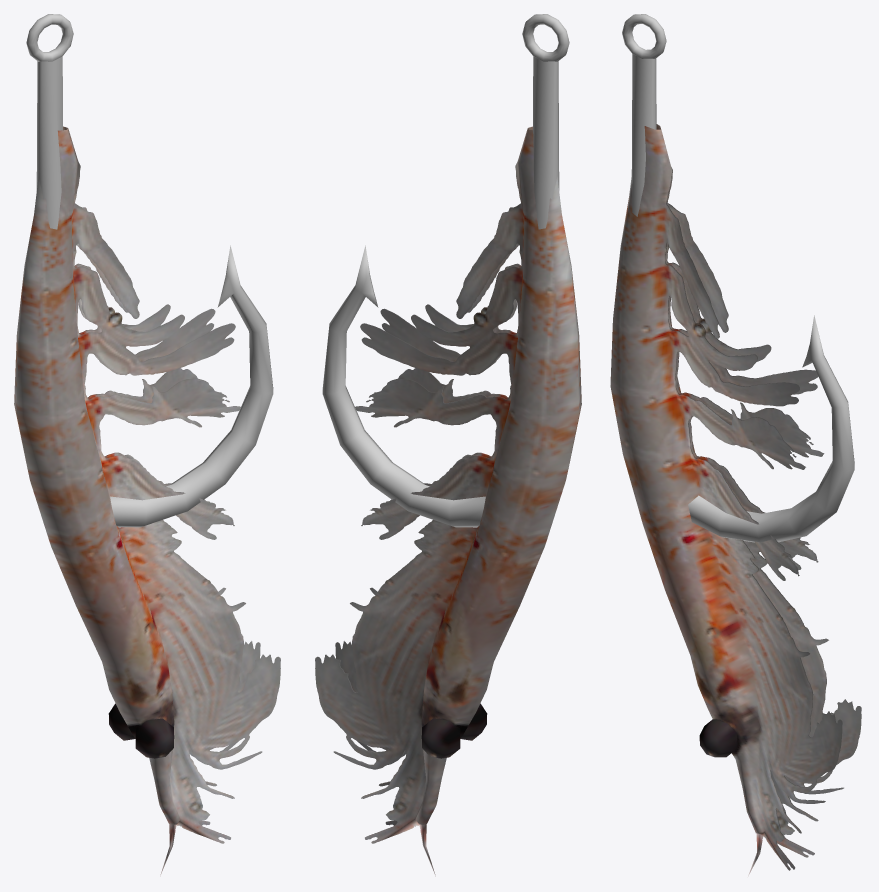
Rendered from Bait_Krill.fbx.
The picture shows the model from 3 angles, left to right: view 1: azimuth 30°, elevation 25°; view 2: azimuth 150°, elevation 25°; view 3: azimuth 330°, elevation 25°; orthographic projection. The views are drawn at different scales.
Parts seen in each view (by area): view 1: Bait_Krill; view 2: Bait_Krill; view 3: Bait_Krill.
Boxes of the visible parts, x1,y1,x2,y2 form: Bait_Krill: (14, 14, 280, 876); Bait_Krill: (315, 14, 581, 876); Bait_Krill: (610, 14, 861, 876).
Size of the model in its own units: 0.2201 by 0.7309 by 0.0696.
